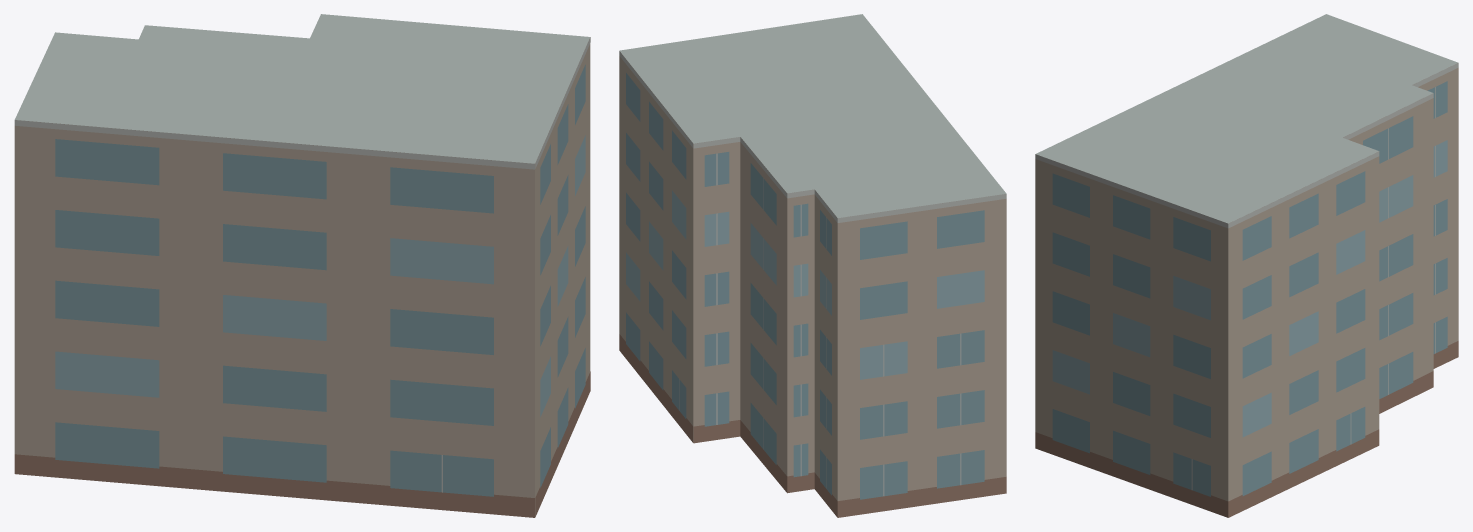
File: survey-upis-32863040.glb
The picture shows the model from 3 angles, left to right: view 1: azimuth 30°, elevation 25°; view 2: azimuth 150°, elevation 25°; view 3: azimuth 270°, elevation 25°; orthographic projection. The views are drawn at different scales.
Parts seen in each view (by area): view 1: survey-upis-32863040.tmp; view 2: survey-upis-32863040.tmp; view 3: survey-upis-32863040.tmp.
Boxes of the visible parts, <box> form: survey-upis-32863040.tmp: <box>14,14,590,517</box>; survey-upis-32863040.tmp: <box>619,14,1006,517</box>; survey-upis-32863040.tmp: <box>1035,14,1458,517</box>.
Bounding box in the file's own units: 22.55 × 14.76 × 19.25.
